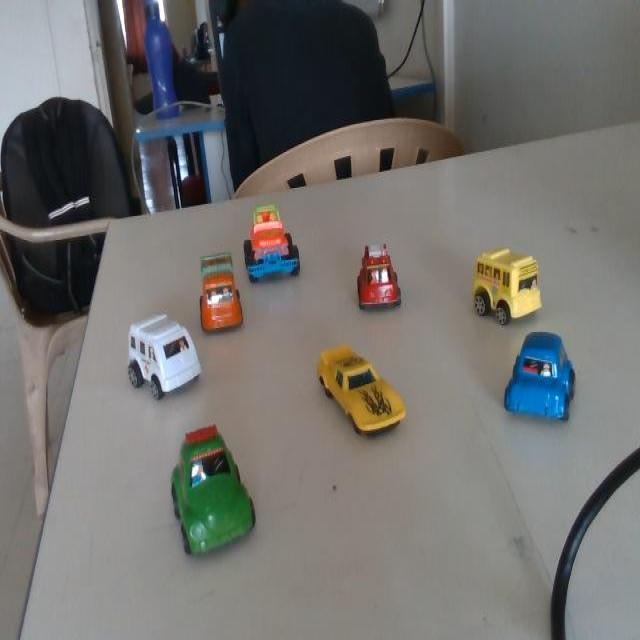car: (115, 404, 290, 614), (102, 285, 221, 432), (295, 336, 418, 448), (500, 328, 579, 432), (459, 246, 538, 336), (239, 190, 313, 284), (187, 238, 247, 344), (342, 236, 406, 327)
